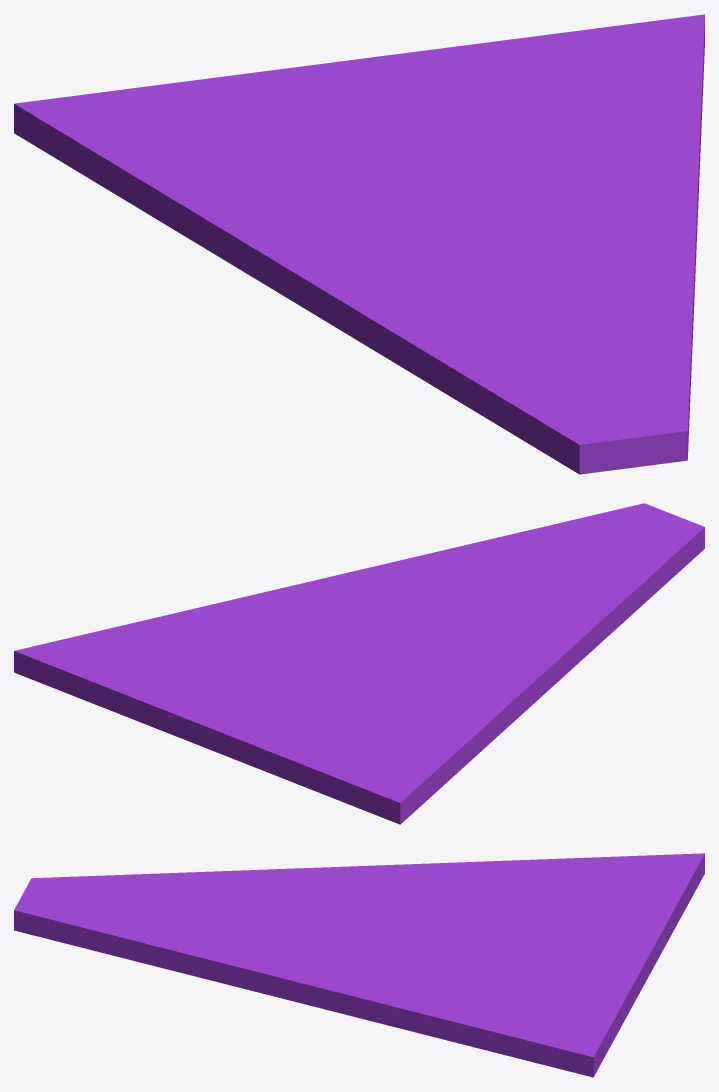
File: StairsStep_7_chunks.fbx
3 renders of one model, top to bottom at view 1: azimuth 30°, elevation 25°; view 2: azimuth 150°, elevation 25°; view 3: azimuth 270°, elevation 25°, orthographic. The views are drawn at different scales.
Visible parts, largest first — view 1: StairsStep_7_3, StairsStep_7_1, StairsStep_7_2, StairsStep_7_0; view 2: StairsStep_7_1, StairsStep_7_3, StairsStep_7_2, StairsStep_7_0; view 3: StairsStep_7_1, StairsStep_7_3, StairsStep_7_2, StairsStep_7_0.
Boxes of the visible parts, x1=… form: StairsStep_7_3: x1=14, y1=67, x2=506, y2=295; StairsStep_7_1: x1=296, y1=14, x2=704, y2=249; StairsStep_7_2: x1=486, y1=213, x2=696, y2=472; StairsStep_7_0: x1=283, y1=259, x2=595, y2=474; StairsStep_7_1: x1=14, y1=580, x2=426, y2=769; StairsStep_7_3: x1=243, y1=620, x2=559, y2=824; StairsStep_7_2: x1=315, y1=503, x2=704, y2=620; StairsStep_7_0: x1=462, y1=536, x2=704, y2=693; StairsStep_7_1: x1=302, y1=929, x2=664, y2=1077; StairsStep_7_3: x1=324, y1=853, x2=704, y2=946; StairsStep_7_2: x1=14, y1=877, x2=341, y2=1003; StairsStep_7_0: x1=53, y1=866, x2=352, y2=918.
Bounding box in the file's own units: 387 × 17.94 × 553.
